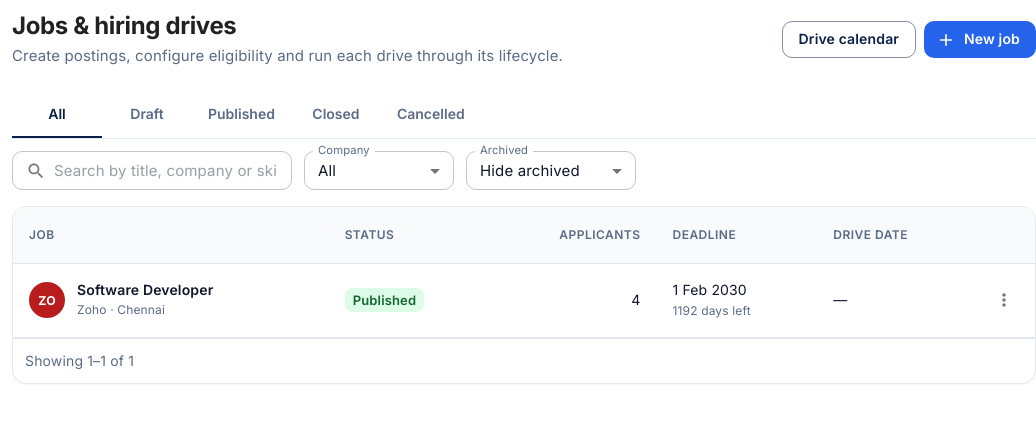
Test: lifecycle actions from the row menu › without drives.publish the menu offers no lifecycle actions, only view/edit
The image size is (1036, 430).
Expected: the link "Software Developer" is shown, [77,281,213,298]
Click the button named "Actions for Software Developer": click(1004, 300) [989,285,1019,315]
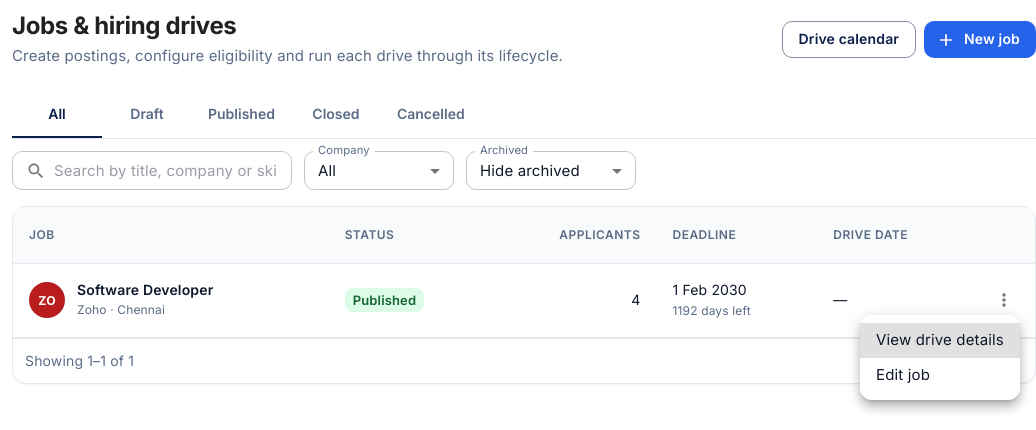
Expected: the menu item "Edit job" is shown, [876,364,930,384]
